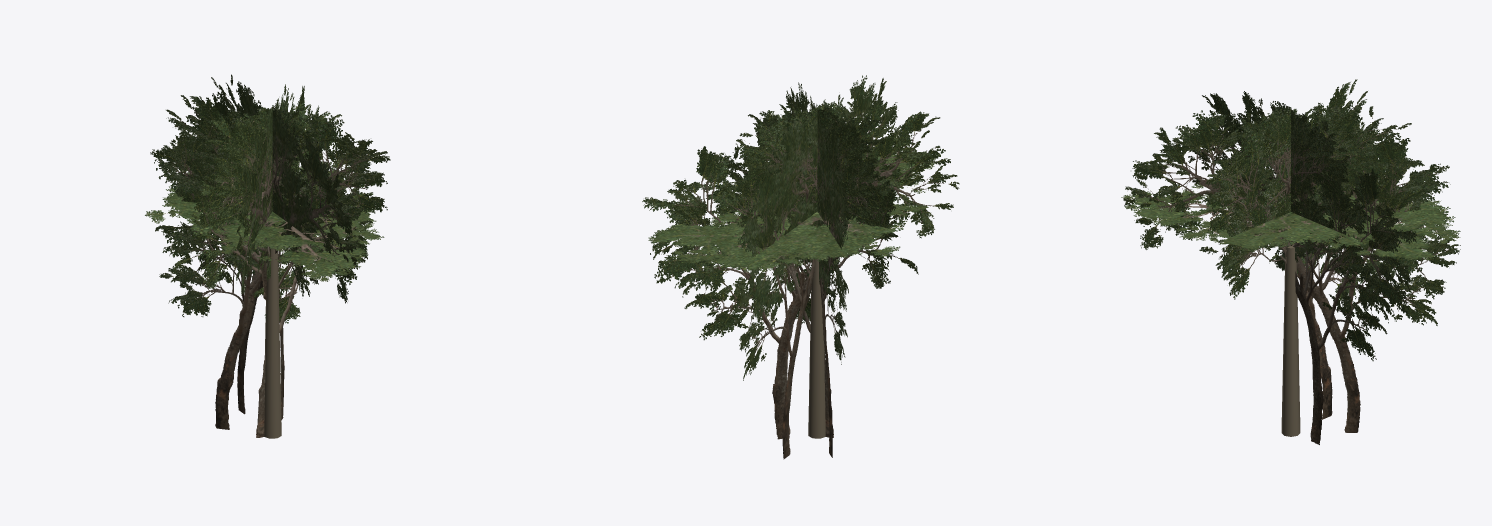
File: tree-small.glb
The picture shows the model from 3 angles, left to right: view 1: azimuth 30°, elevation 25°; view 2: azimuth 150°, elevation 25°; view 3: azimuth 270°, elevation 25°; orthographic projection.
Visible parts, largest first — view 1: Poly Haven Tree Small 02 - architectural context LOD; view 2: Poly Haven Tree Small 02 - architectural context LOD; view 3: Poly Haven Tree Small 02 - architectural context LOD.
Boxes of the visible parts, box(x1,y1,x2,y2) form: Poly Haven Tree Small 02 - architectural context LOD: box(145, 74, 390, 438); Poly Haven Tree Small 02 - architectural context LOD: box(642, 75, 959, 459); Poly Haven Tree Small 02 - architectural context LOD: box(1121, 79, 1460, 444).
Size of the model in its own units: 4.72 by 4.74 by 4.72.
6 materials, 5 textured.
